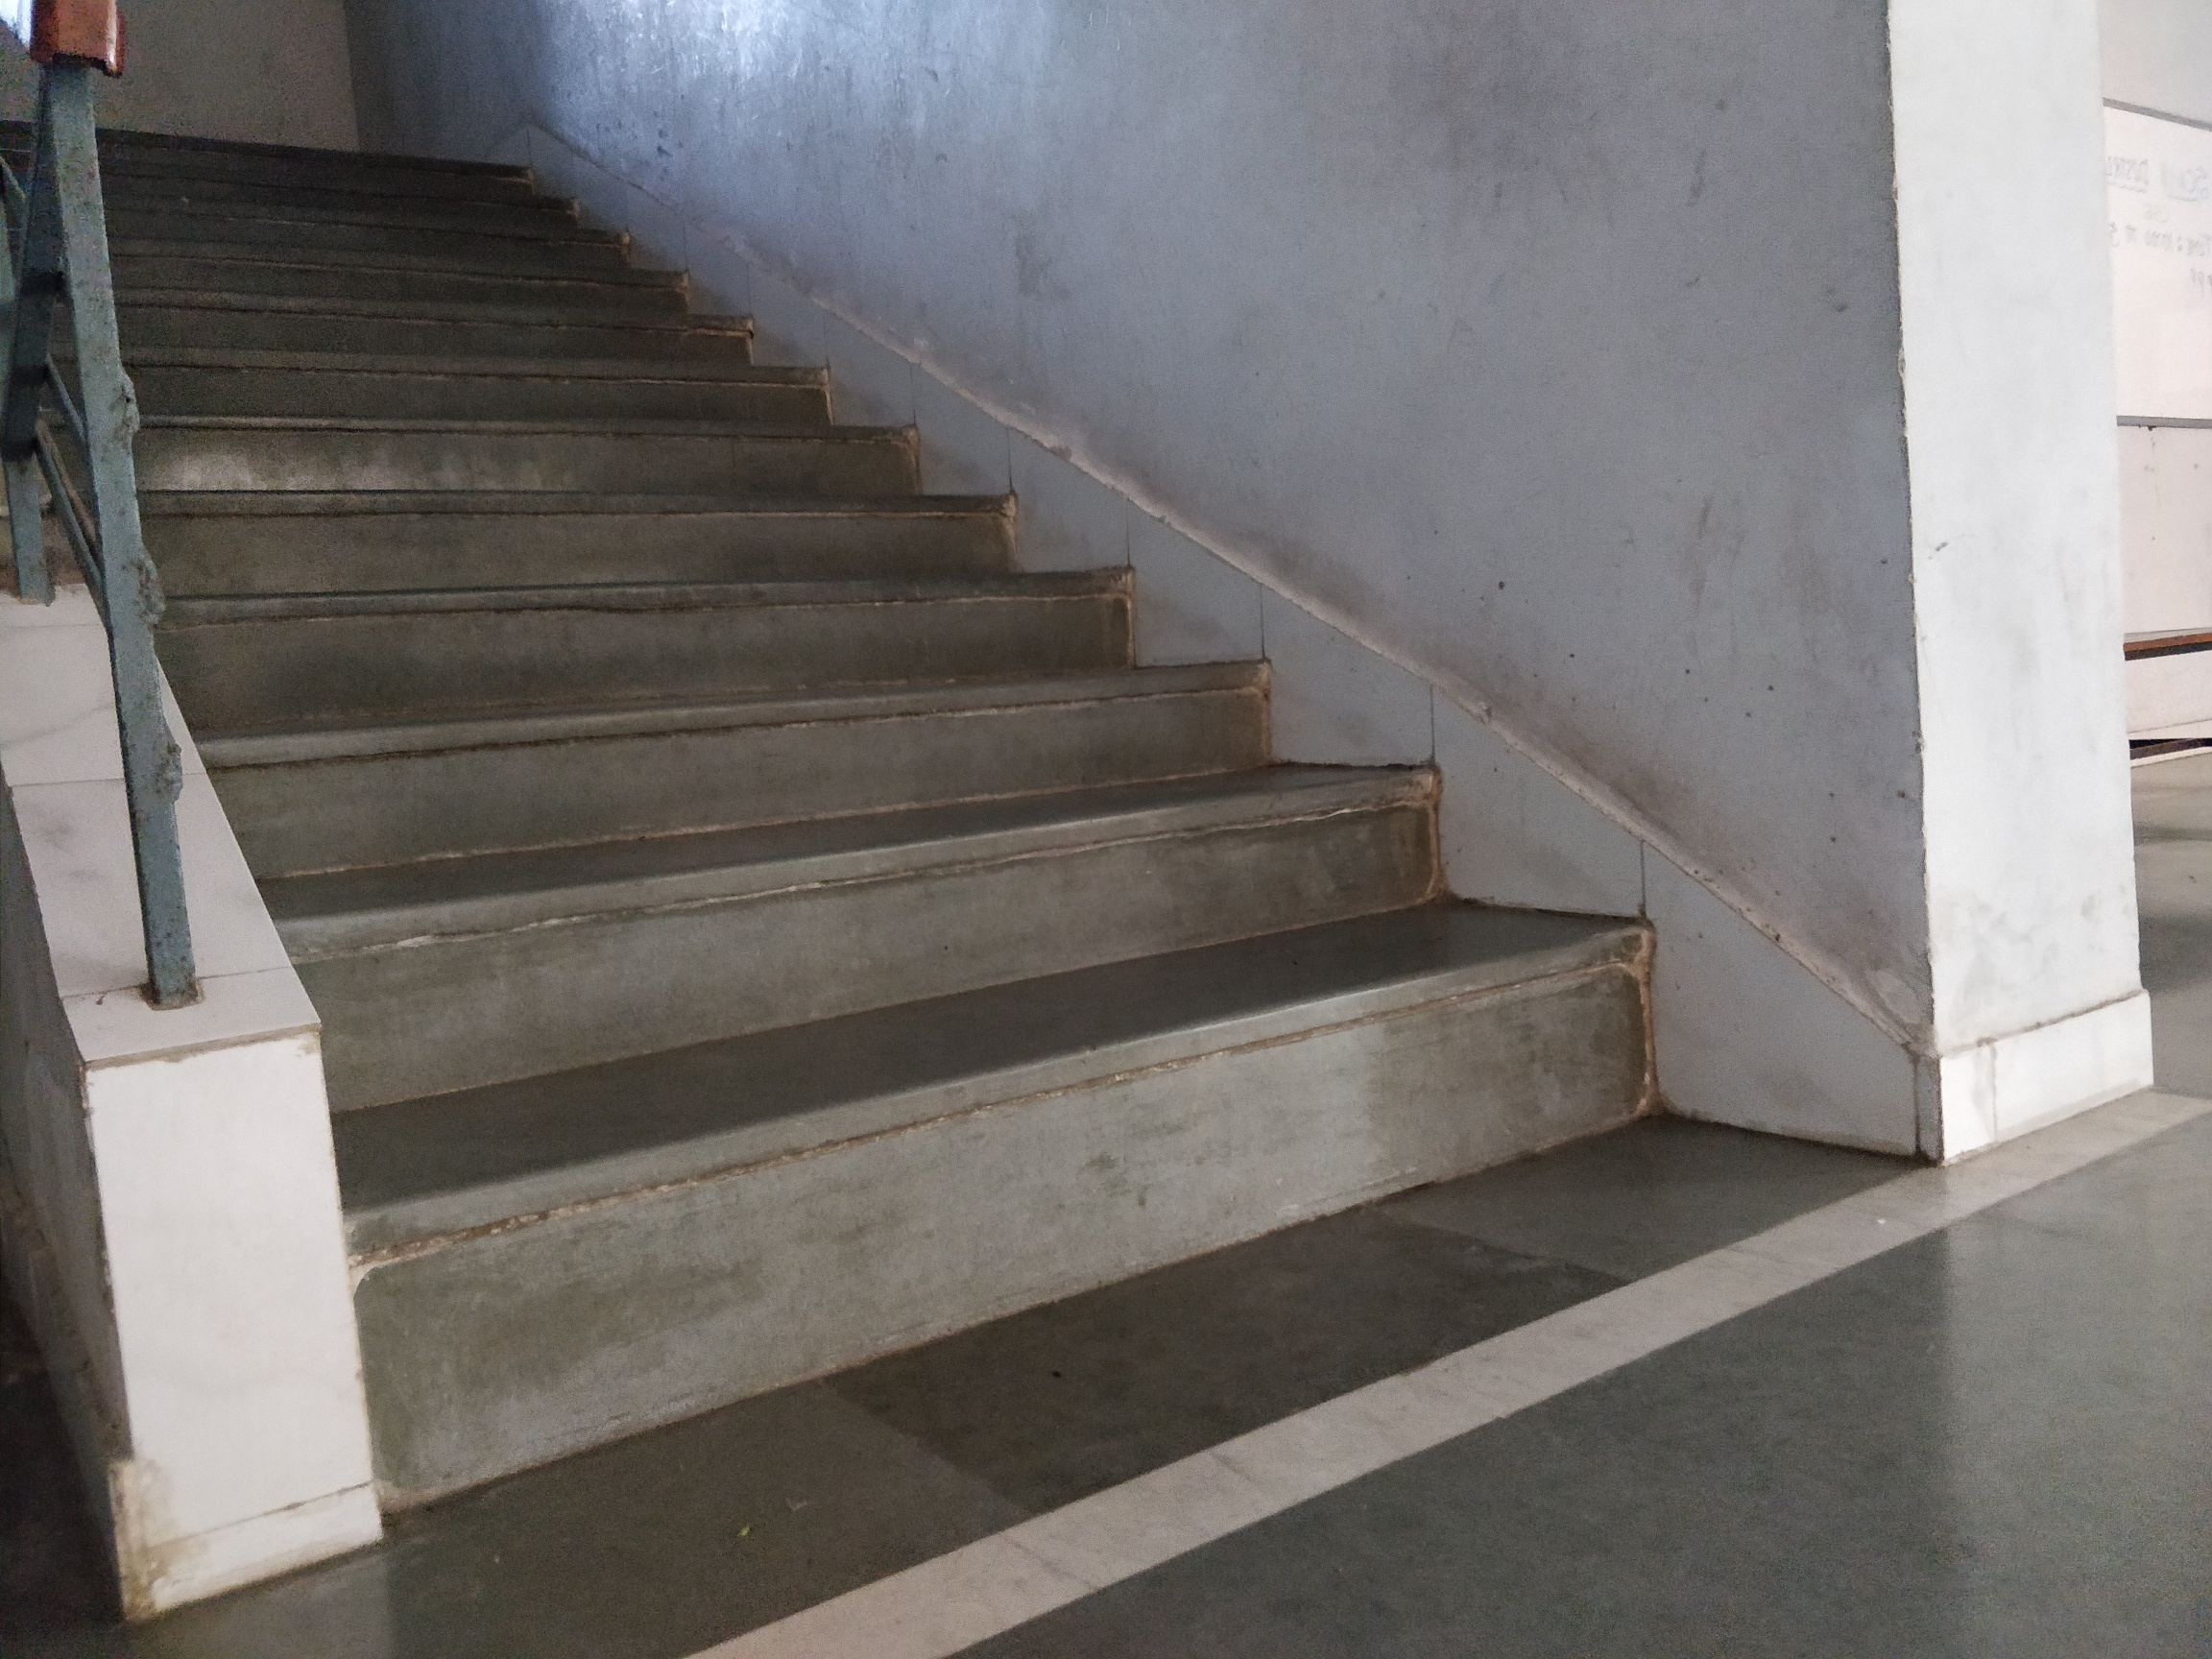stairs_up: (63, 127, 1721, 1340)
